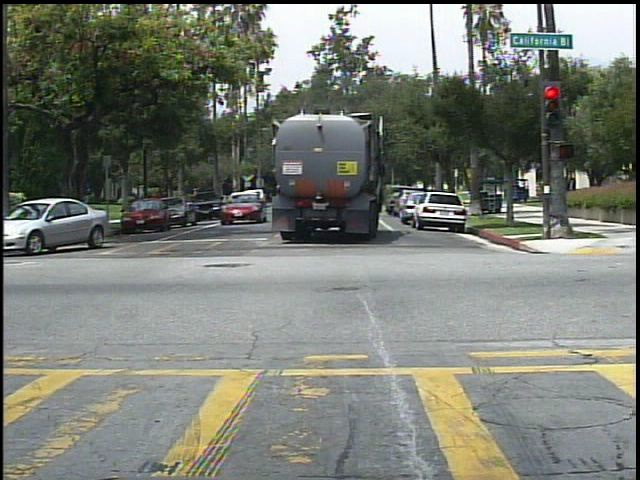person: (565, 170, 584, 202), (517, 180, 531, 199)
